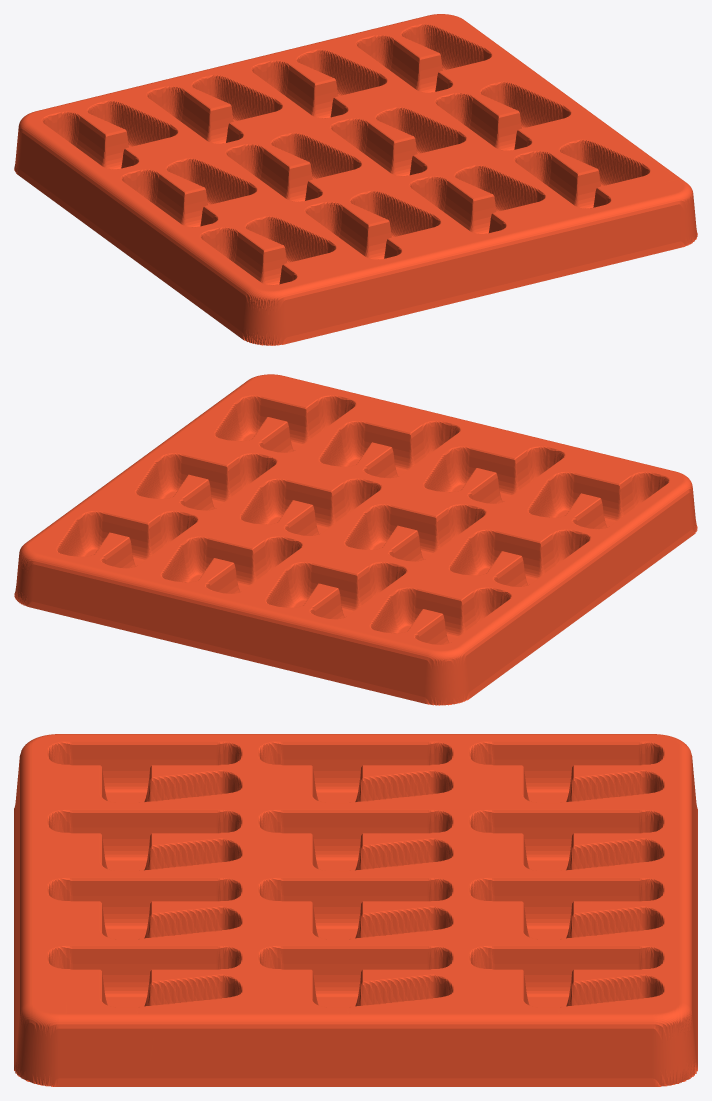
File: mold.glb
3 renders of one model, top to bottom at view 1: azimuth 30°, elevation 25°; view 2: azimuth 150°, elevation 25°; view 3: azimuth 270°, elevation 25°, orthographic. The views are drawn at different scales.
Parts seen in each view (by area): view 1: geometry_0; view 2: geometry_0; view 3: geometry_0.
Boxes of the visible parts, box(x1,y1,x2,y2) form: geometry_0: box(14, 14, 697, 345); geometry_0: box(14, 374, 697, 705); geometry_0: box(14, 734, 697, 1086).
Size of the model in its own units: 0.1397 by 0.0145 by 0.1374.
